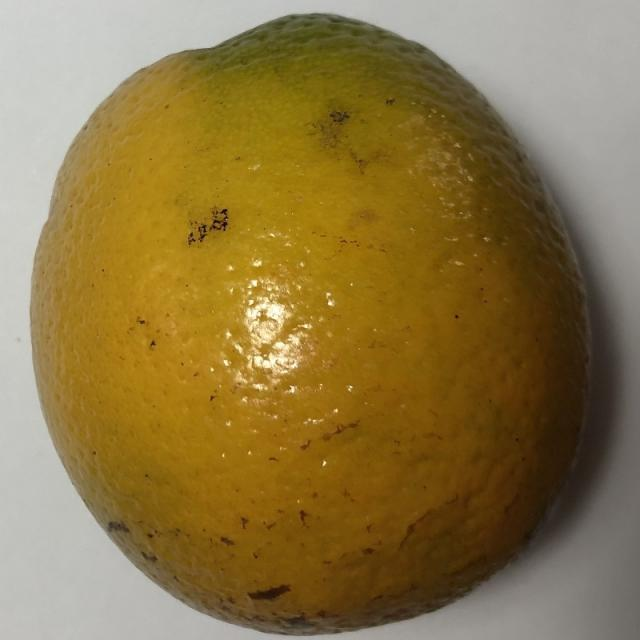blackspot: (0, 8, 608, 638)
